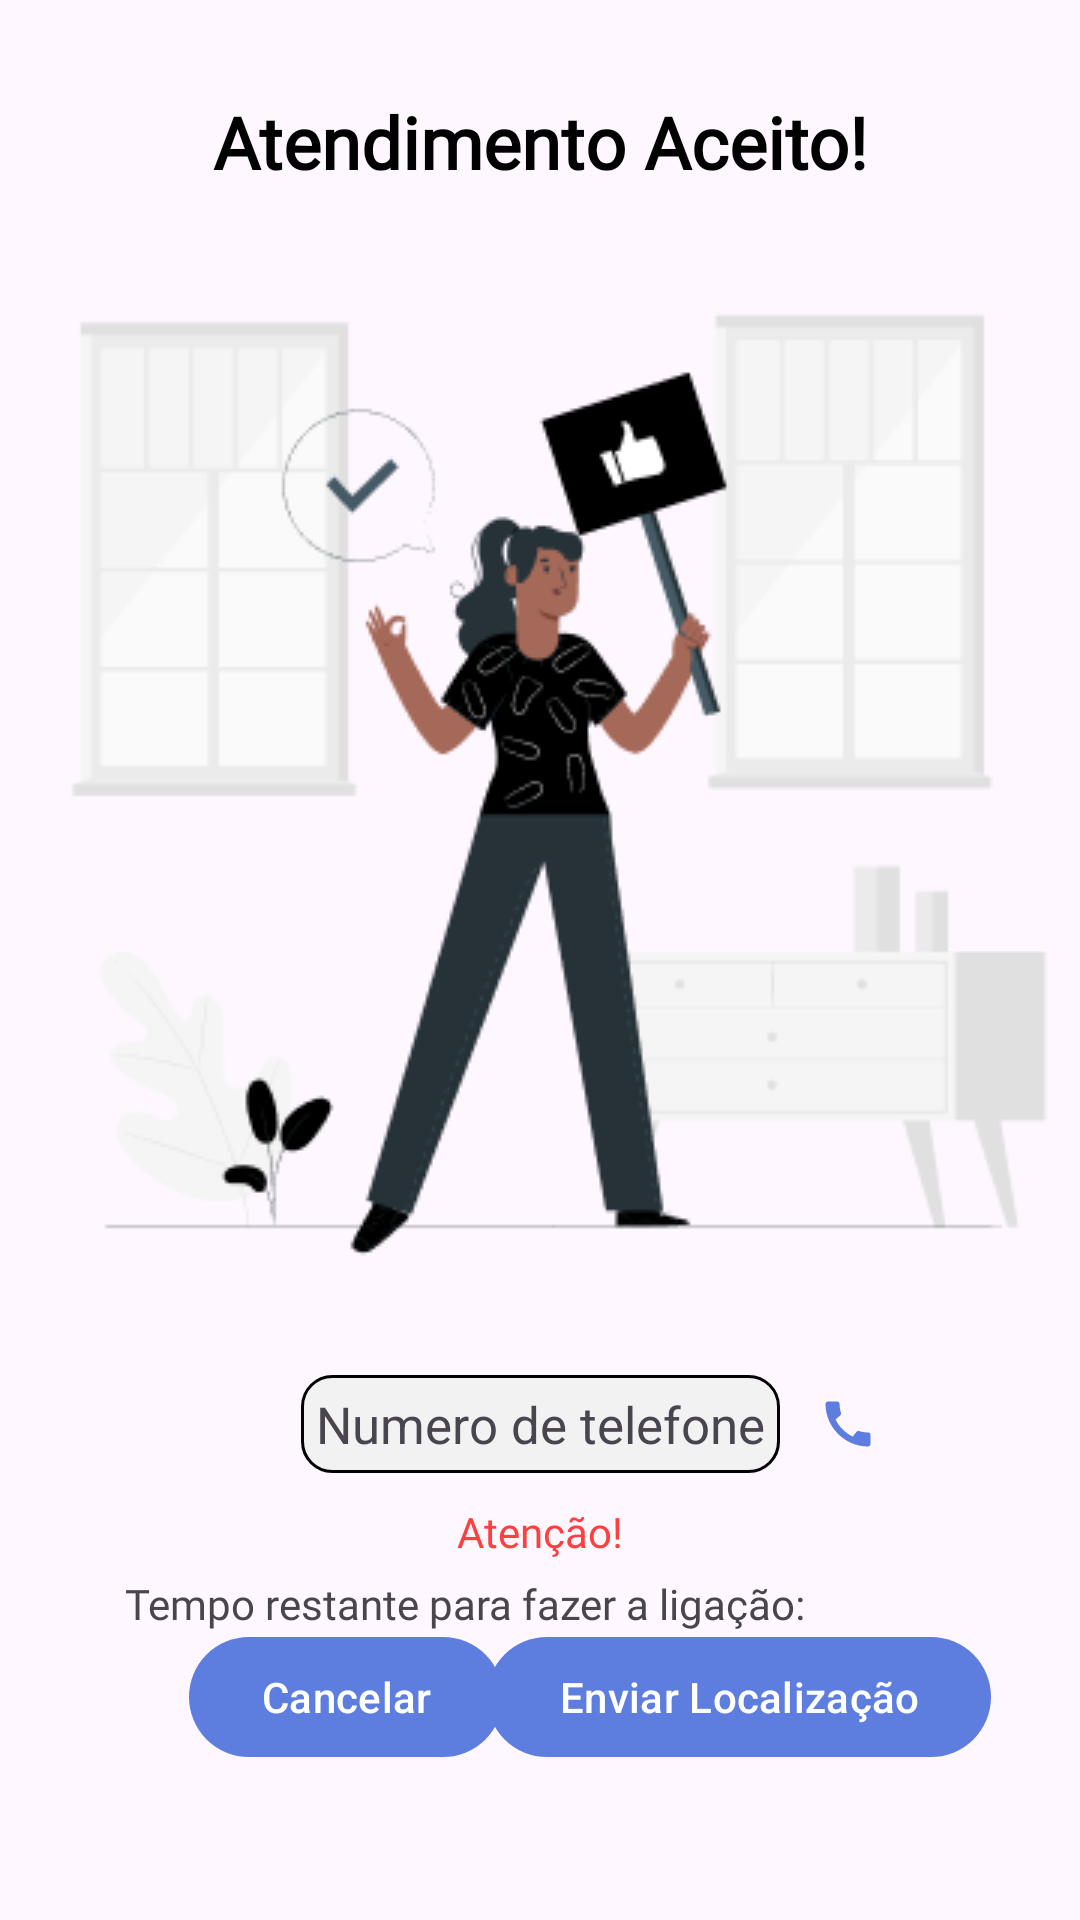

Named icons in this screenshot (1080 × 1920) and their centers, point (x, y):
call: point (848, 1424)
